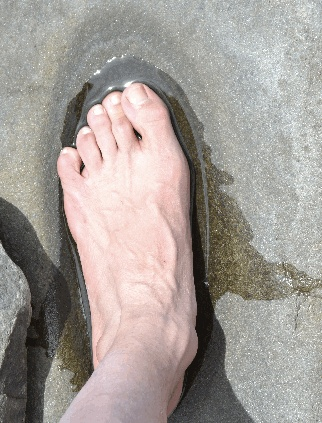feet: (32, 88, 210, 410)
